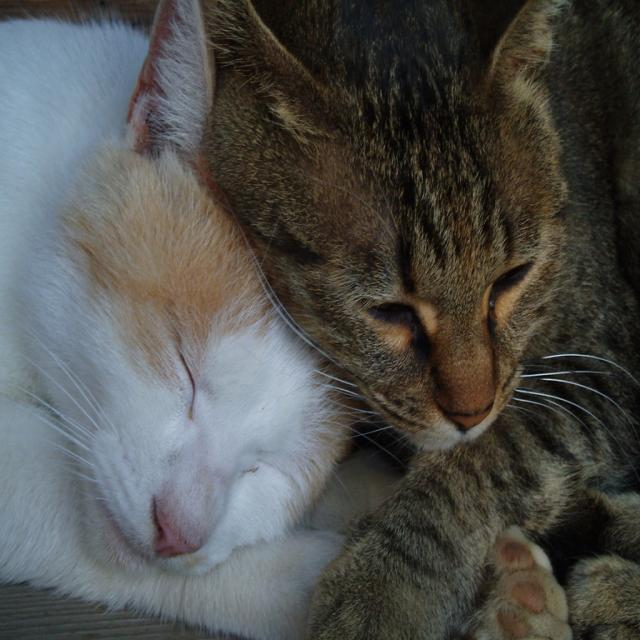Cat: (0, 0, 568, 638), (200, 0, 639, 638)
